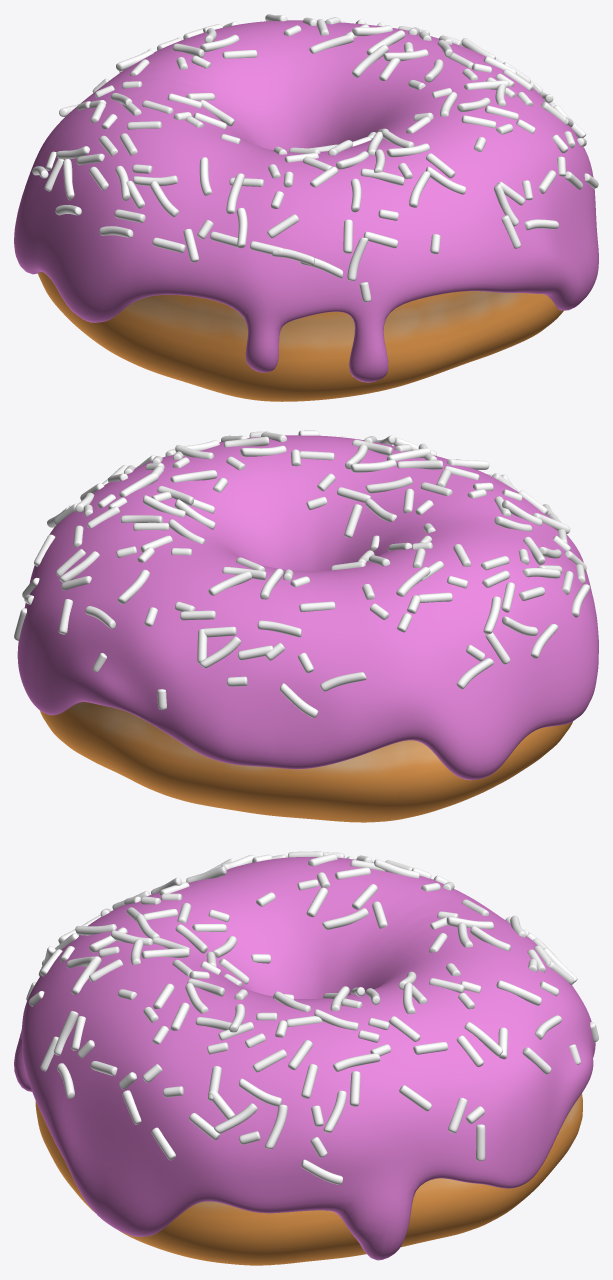
File: donut.glb
The picture shows the model from 3 angles, top to bottom: view 1: azimuth 30°, elevation 25°; view 2: azimuth 150°, elevation 25°; view 3: azimuth 270°, elevation 25°; orthographic projection. The views are drawn at different scales.
Parts seen in each view (by area): view 1: Icing, Donut; view 2: Icing, Donut; view 3: Icing, Donut.
Boxes of the visible parts, x1,y1,x2,y2 form: Icing: (14,14,598,382); Donut: (38,272,563,401); Icing: (14,430,598,780); Donut: (40,702,572,822); Icing: (14,851,598,1260); Donut: (35,1093,582,1265).
Size of the model in its own units: 0.1104 by 0.0495 by 0.1061.
3 materials, 1 textured.
